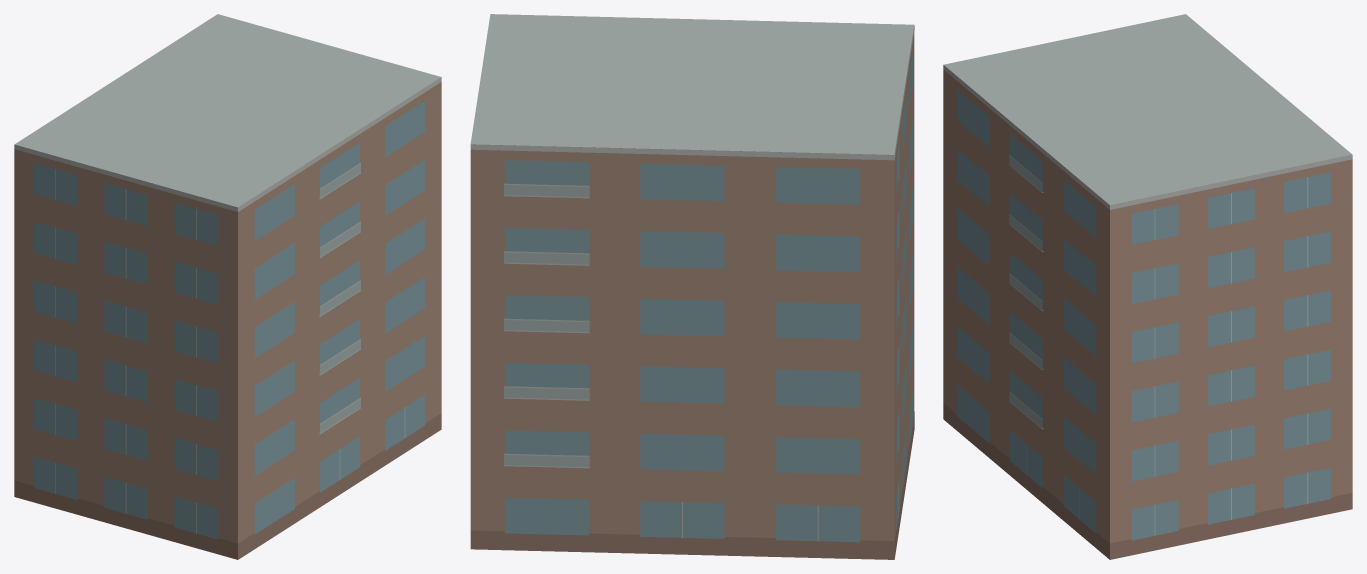
File: survey-upis-32708334.glb
3 renders of one model, left to right at view 1: azimuth 30°, elevation 25°; view 2: azimuth 150°, elevation 25°; view 3: azimuth 270°, elevation 25°, orthographic. The views are drawn at different scales.
Visible parts, largest first — view 1: survey-upis-32708334.tmp; view 2: survey-upis-32708334.tmp; view 3: survey-upis-32708334.tmp.
Part boxes in pixels (x1,y1,x2,y2): survey-upis-32708334.tmp: (14,14,441,559); survey-upis-32708334.tmp: (470,14,914,559); survey-upis-32708334.tmp: (943,14,1352,559).
Bounding box in the file's own units: 21.17 × 18.3 × 19.14.
